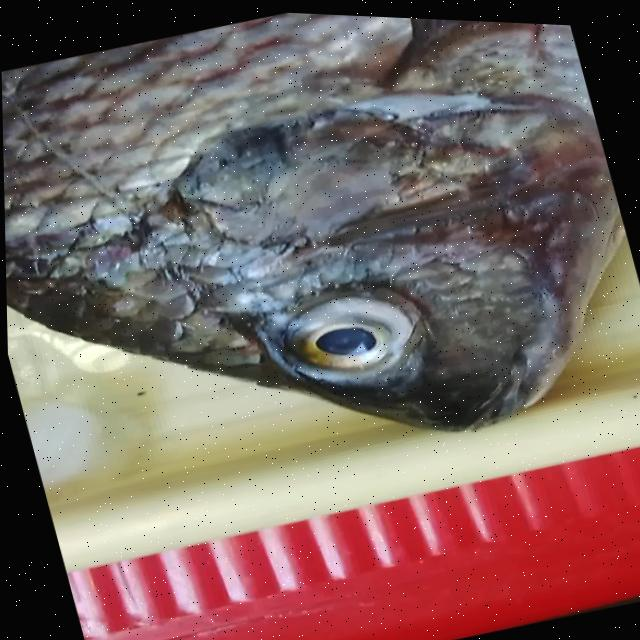Fresh: (0, 0, 606, 299), (222, 253, 432, 412)
